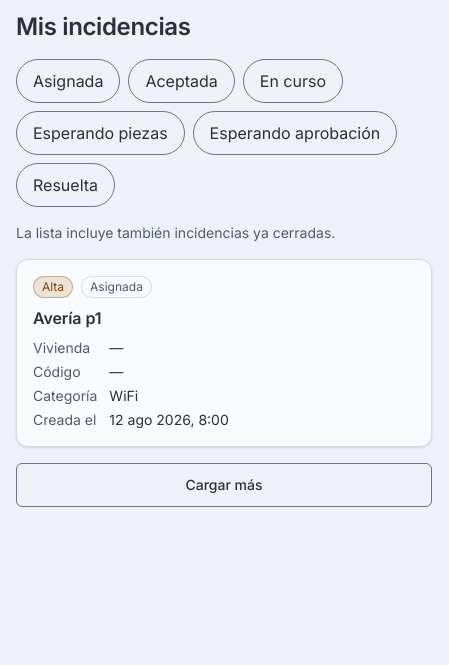
Test case: TechIncidentsView (R1) › accumulates pages behind `load more` and keeps the earlier contexts (R1.4)
Expected: the text "Avería p1" is shown, [33,308,102,328]
What coordinates should you click on to do the following:
click the button "Cargar más"
I would click on:
 (224, 485)
Its box is [16,463,432,507].
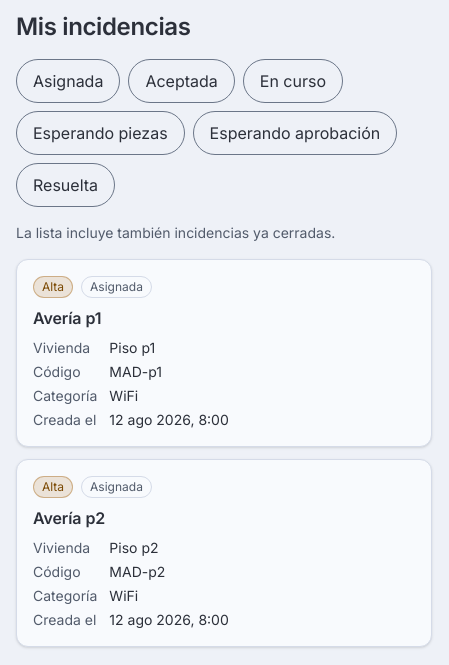
Expected: the text "Avería p1" is shown, [33,308,102,328]
Expected: the text "Avería p2" is shown, [33,508,105,528]
